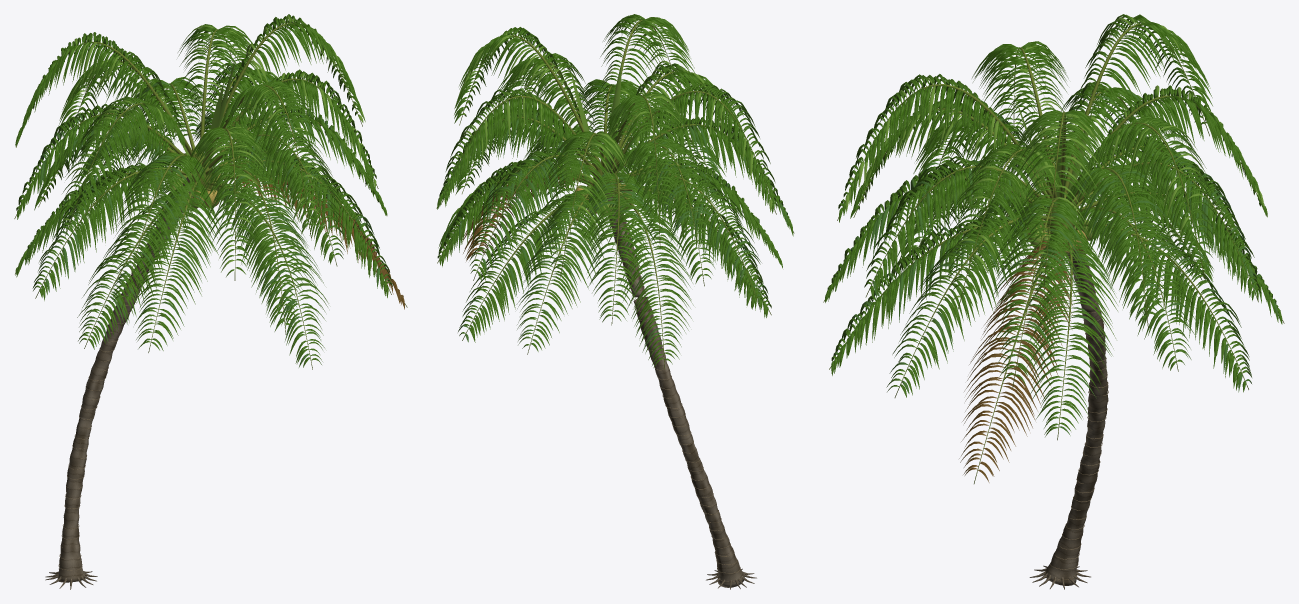
File: KL_LS_Coconut_Leaning_B.gltf
3 views of the same model, side by side, from view 1: azimuth 30°, elevation 25°; view 2: azimuth 150°, elevation 25°; view 3: azimuth 270°, elevation 25° (orthographic). The views are drawn at different scales.
Visible parts, largest first — view 1: TF3_KL_LS_Coconut_Leaning_B; view 2: TF3_KL_LS_Coconut_Leaning_B; view 3: TF3_KL_LS_Coconut_Leaning_B.
Boxes of the visible parts, x1,y1,x2,y2 form: TF3_KL_LS_Coconut_Leaning_B: (14,14,407,589); TF3_KL_LS_Coconut_Leaning_B: (436,14,794,589); TF3_KL_LS_Coconut_Leaning_B: (823,14,1284,589).
Bounding box in the file's own units: 8.03 × 11.67 × 8.23.
9 materials, 3 textured.
